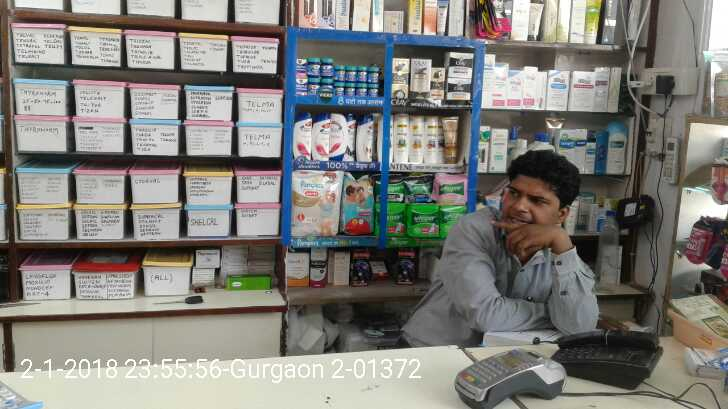vicks: (295, 54, 380, 97)
